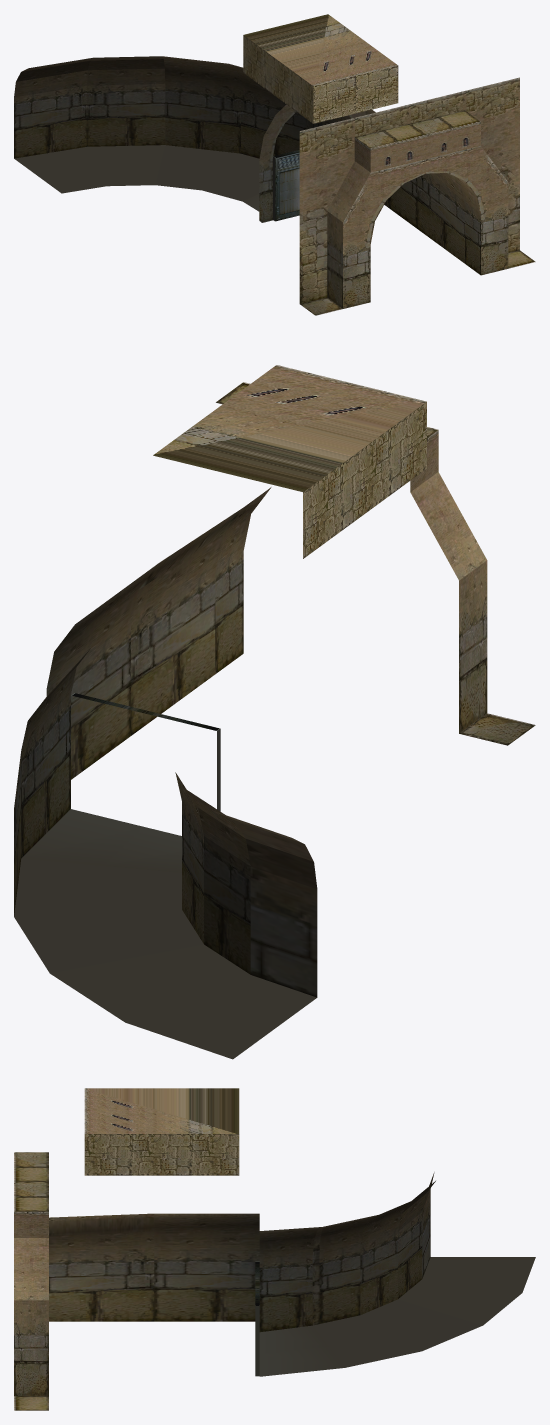
The model's file is M2Zone3_GateWay.glb.
3 renders of one model, top to bottom at view 1: azimuth 30°, elevation 25°; view 2: azimuth 150°, elevation 25°; view 3: azimuth 270°, elevation 25°, orthographic. The views are drawn at different scales.
Visible parts, largest first — view 1: M2ZONE3_GATEWAY; view 2: M2ZONE3_GATEWAY; view 3: M2ZONE3_GATEWAY.
Boxes of the visible parts, left/top/right/bottom form: M2ZONE3_GATEWAY: left=14, top=14, right=535, bottom=315; M2ZONE3_GATEWAY: left=14, top=365, right=535, bottom=1059; M2ZONE3_GATEWAY: left=14, top=1088, right=535, bottom=1410.
Bounding box in the file's own units: 20.73 × 14.01 × 29.73.
Materials: 6 (6 with a texture image).
